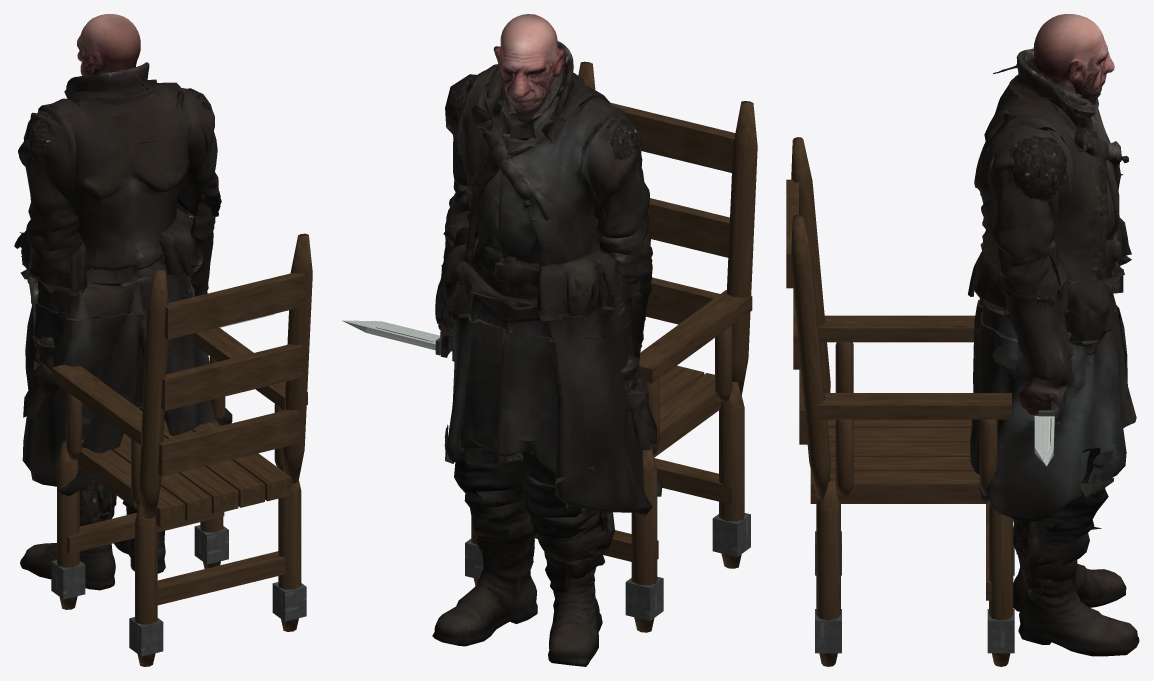
Rendered from warden.glb.
3 views of the same model, side by side, from view 1: azimuth 30°, elevation 25°; view 2: azimuth 150°, elevation 25°; view 3: azimuth 270°, elevation 25° (orthographic). The views are drawn at different scales.
Visible parts, largest first — view 1: warden_chair, warden_torso, warden_coat_l, warden_upperarm_l, warden_head, warden_neck, warden_pelvis, warden_coat_r, warden_boot_l, warden_upperarm_r, warden_shin_l, warden_forearm_r (+2 smaller); view 2: warden_chair, warden_torso, warden_coat_l, warden_upperarm_l, warden_coat_r, warden_boot_r, warden_head, warden_shin_r, warden_pelvis, warden_boot_l, warden_shin_l, warden_neck (+5 smaller); view 3: warden_chair, warden_coat_r, warden_torso, warden_upperarm_r, warden_head, warden_boot_r, warden_shin_r, warden_forearm_r, warden_neck, warden_pelvis, warden_boot_l, warden_knife (+3 smaller).
Part boxes in pixels (x1,y1,x2,y2): warden_chair: (51,233,312,666); warden_torso: (14,82,221,292); warden_coat_l: (22,302,146,495); warden_upperarm_l: (18,103,82,276); warden_head: (66,14,156,97); warden_neck: (64,79,189,146); warden_pelvis: (20,256,202,319); warden_coat_r: (112,284,232,435); warden_boot_l: (20,507,115,590); warden_upperarm_r: (176,88,218,243); warden_shin_l: (79,477,116,525); warden_forearm_r: (184,211,214,296); warden_chair: (465,61,757,632); warden_torso: (441,64,641,316); warden_coat_l: (496,319,662,515); warden_upperarm_l: (581,105,652,278); warden_coat_r: (440,309,549,462); warden_boot_r: (432,537,537,646); warden_head: (486,14,584,120); warden_shin_r: (445,438,535,545); warden_pelvis: (441,264,642,341); warden_boot_l: (544,549,605,666); warden_shin_l: (522,456,614,573); warden_neck: (471,76,610,144); warden_chair: (786,137,1014,666); warden_coat_r: (970,309,1134,521); warden_torso: (968,98,1131,313); warden_upperarm_r: (990,127,1073,302); warden_head: (993,14,1114,117); warden_boot_r: (1016,553,1139,656); warden_shin_r: (1013,458,1113,598); warden_forearm_r: (1005,290,1073,392); warden_neck: (984,85,1100,149); warden_pelvis: (975,255,1131,341); warden_boot_l: (1013,563,1126,611); warden_knife: (1034,410,1054,466).
Size of the model in its own units: 0.9836 by 1.87 by 0.9823.
Materials: 19 (19 with a texture image).
